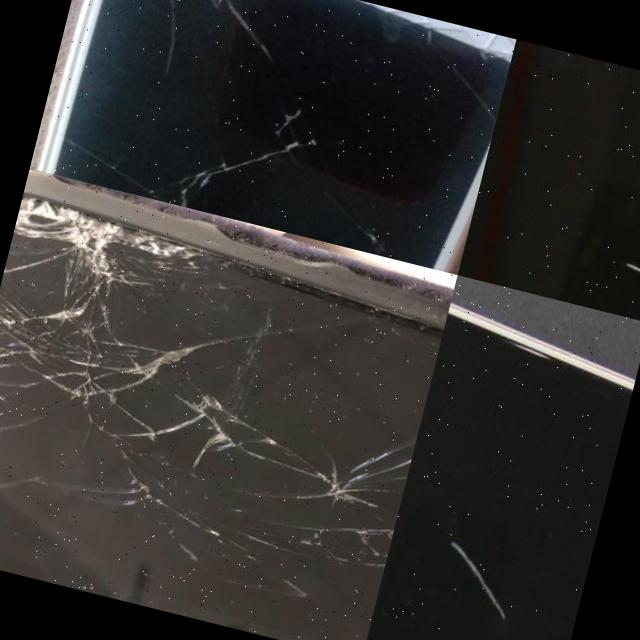scratch: (430, 521, 546, 633), (604, 215, 640, 322)
screen crack: (0, 167, 456, 636), (42, 42, 467, 269), (61, 0, 514, 141)
